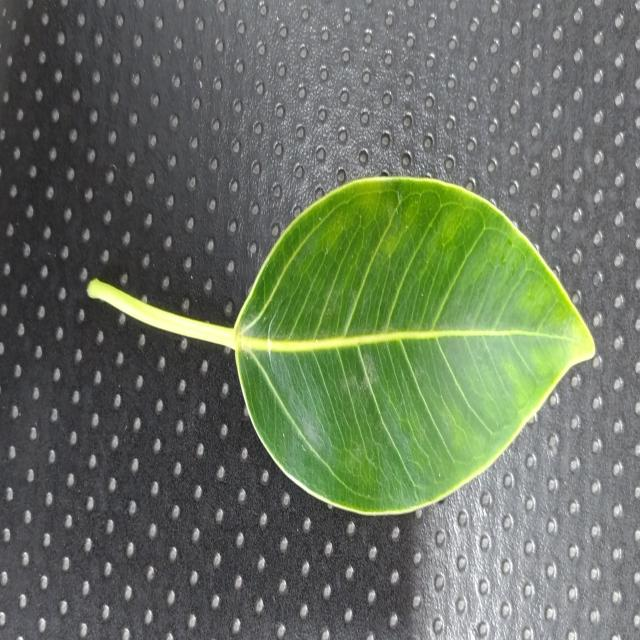camphor: (236, 178, 594, 513)
